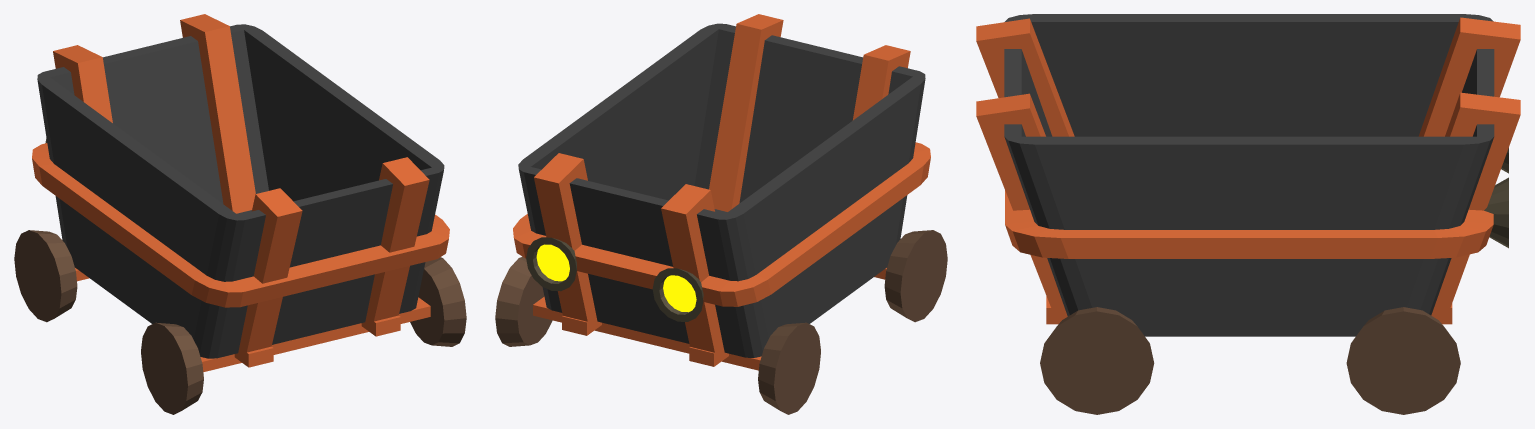
File: minecart.fbx
3 views of the same model, side by side, from view 1: azimuth 30°, elevation 25°; view 2: azimuth 150°, elevation 25°; view 3: azimuth 270°, elevation 25° (orthographic). The views are drawn at different scales.
Parts seen in each view (by area): view 1: Cube.004; view 2: Cube.004; view 3: Cube.004.
Part boxes in pixels (bbox=[...]): Cube.004: bbox=[14, 14, 466, 414]; Cube.004: bbox=[495, 14, 947, 414]; Cube.004: bbox=[976, 14, 1520, 414].
Size of the model in its own units: 252 by 193 by 352.
